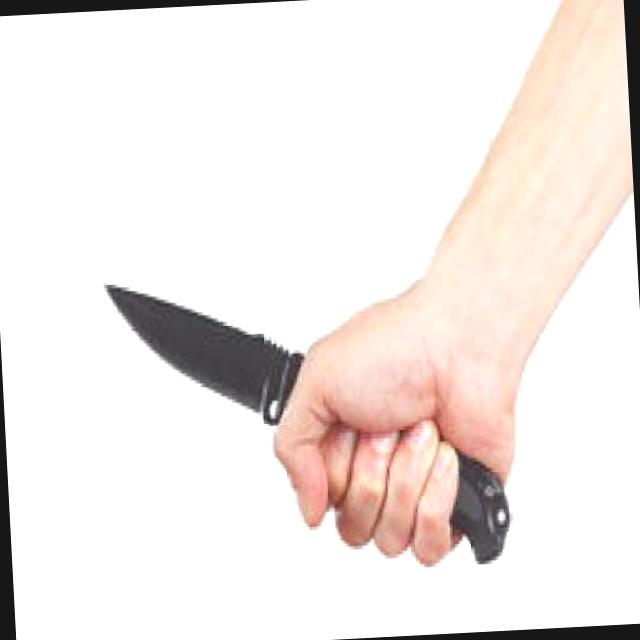knife: (96, 246, 430, 542)
